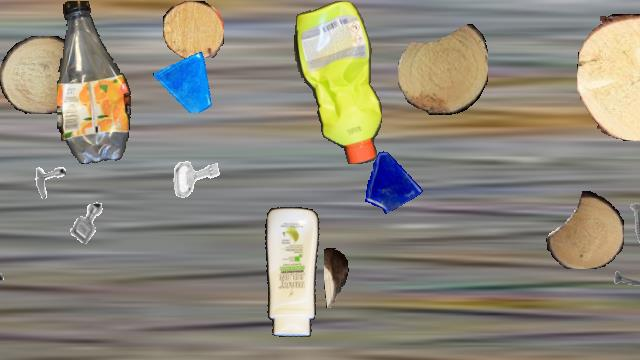glass: (359, 148, 425, 214), (153, 50, 215, 112)
metal: (165, 148, 225, 208), (59, 195, 115, 251), (24, 156, 66, 198), (613, 258, 640, 300), (617, 202, 640, 244), (0, 253, 12, 305)
plastic: (293, 1, 383, 163), (57, 1, 133, 163), (258, 207, 322, 337)
wood: (398, 23, 488, 115), (577, 14, 640, 140), (0, 36, 82, 114), (546, 191, 624, 269), (163, 1, 223, 59), (324, 248, 348, 308)
